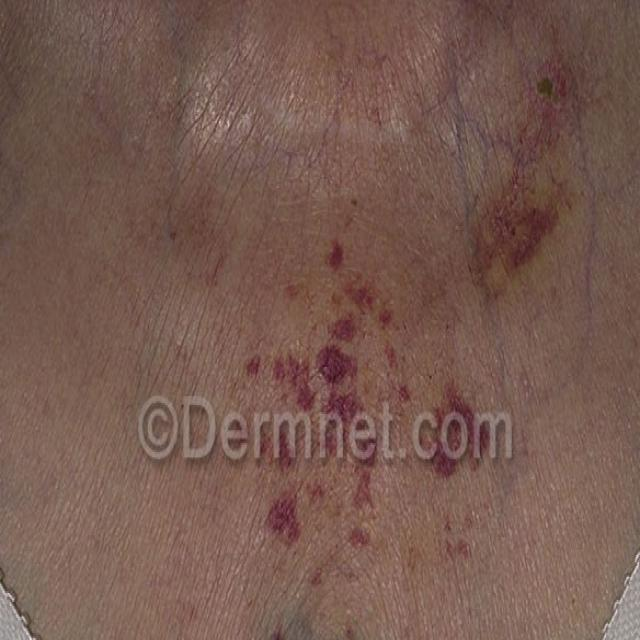Vascular Tumors: (222, 228, 508, 640), (465, 63, 597, 290)
